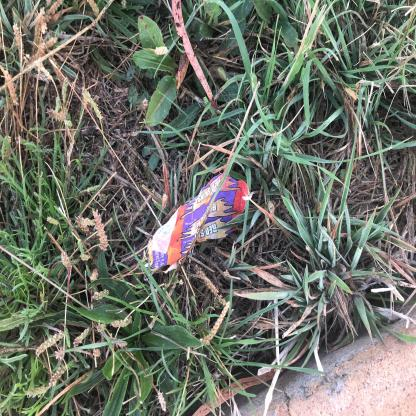trash: (102, 173, 203, 357)
